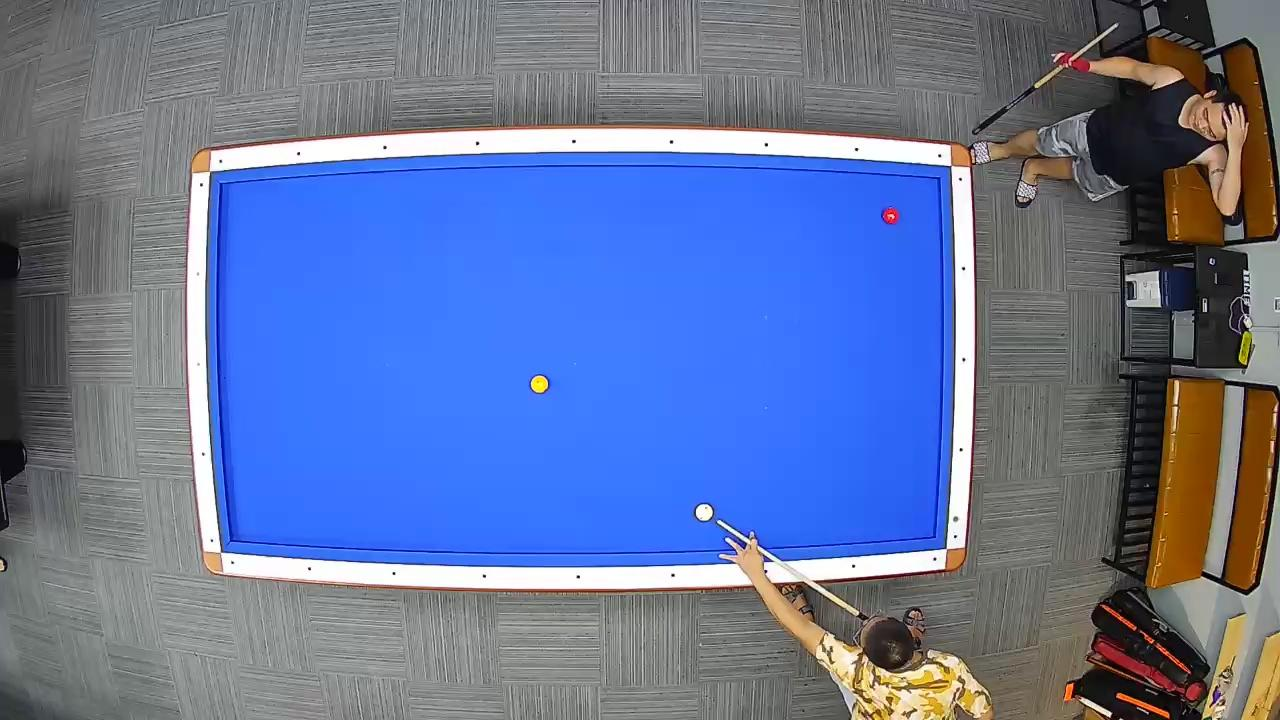Red: (882, 207, 900, 225)
White: (694, 502, 714, 524)
Yellow: (530, 373, 550, 394)
